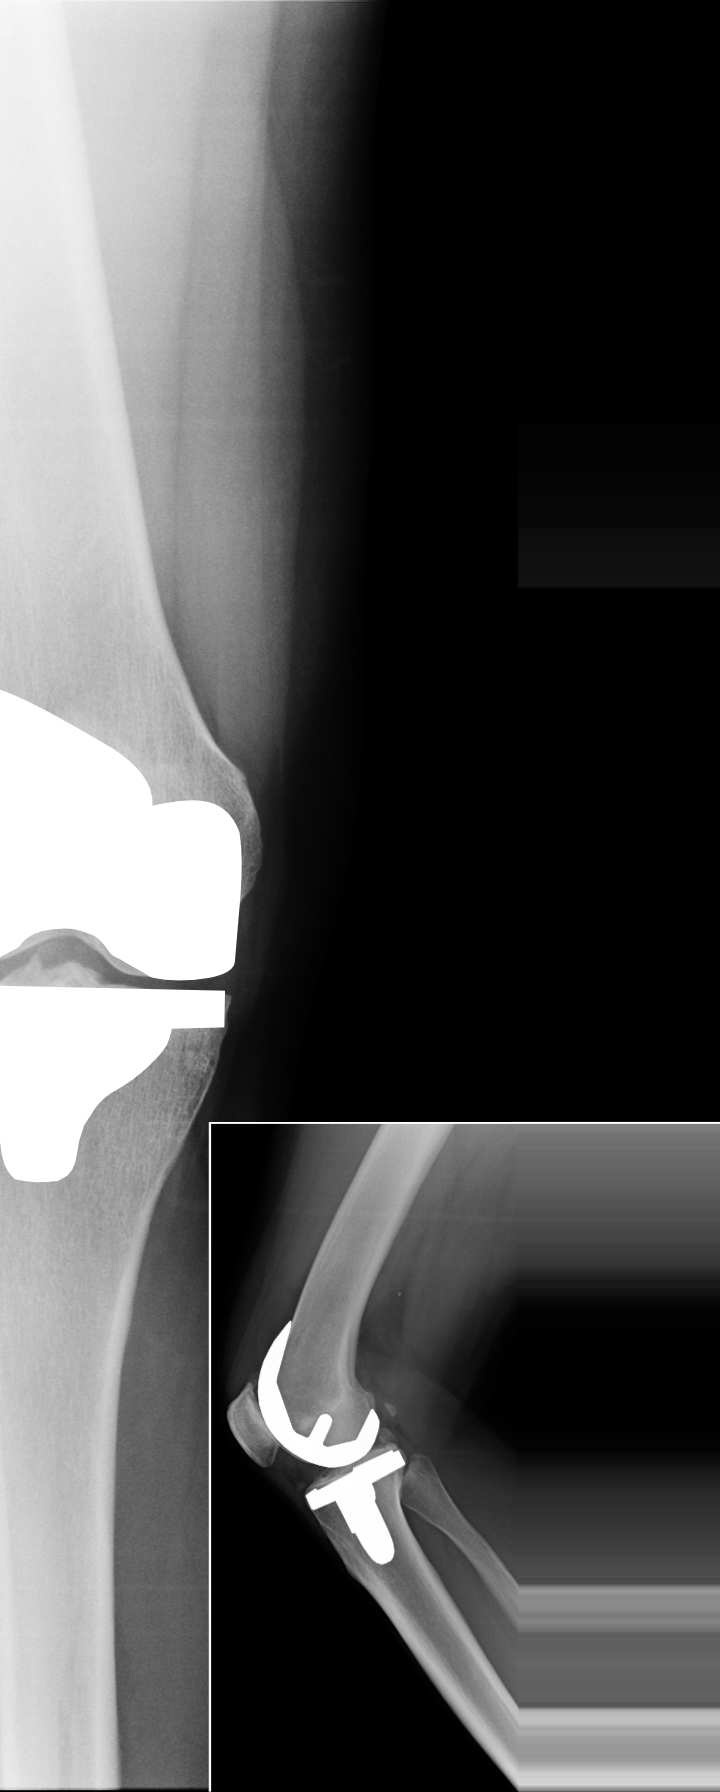Knee-Triathlon-Stryker: (1, 664, 273, 1181), (240, 1294, 407, 1570)
